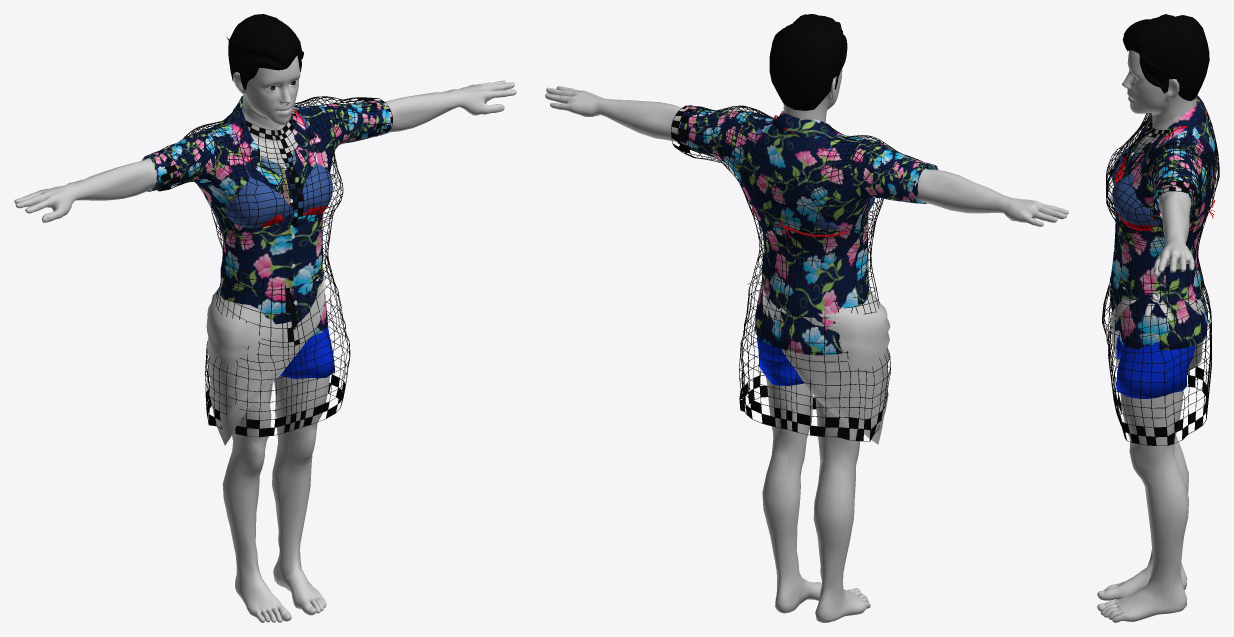
The model's file is Male_All_Assets.fbx.
The picture shows the model from 3 angles, left to right: view 1: azimuth 30°, elevation 25°; view 2: azimuth 150°, elevation 25°; view 3: azimuth 270°, elevation 25°; orthographic projection. The views are drawn at different scales.
Visible parts, largest first — view 1: Body, Shirt, Fishnet, Pareo, Hair, Bra1, Shots; view 2: Shirt, Body, Fishnet, Pareo, Hair, Shots; view 3: Body, Shirt, Fishnet, Hair, Shots, Bra1, Pareo, Bra2.
Part boxes in pixels (x1,y1,x2,y2): Body: (14,55,516,622); Shirt: (142,95,391,337); Fishnet: (144,96,392,437); Pareo: (206,274,332,445); Hair: (226,14,303,90); Bra1: (225,114,332,228); Shots: (270,278,335,385); Shirt: (677,105,938,355); Body: (545,68,1068,622); Fishnet: (671,105,934,441); Pareo: (747,271,890,444); Hair: (769,14,847,110); Shots: (757,336,804,385); Body: (1097,50,1196,622); Shirt: (1109,97,1216,349); Fishnet: (1102,95,1219,445); Hair: (1122,14,1209,100); Shots: (1116,287,1195,398); Bra1: (1112,135,1213,226); Pareo: (1110,292,1204,370); Bra2: (1114,111,1215,230).
Bounding box in the file's own units: 111 × 122 × 23.
